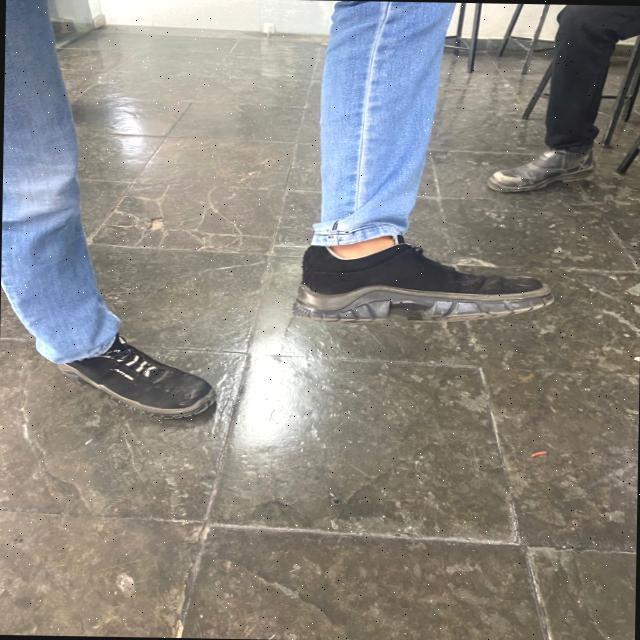BOTA: (295, 224, 568, 328), (37, 314, 223, 421), (479, 142, 598, 194)
